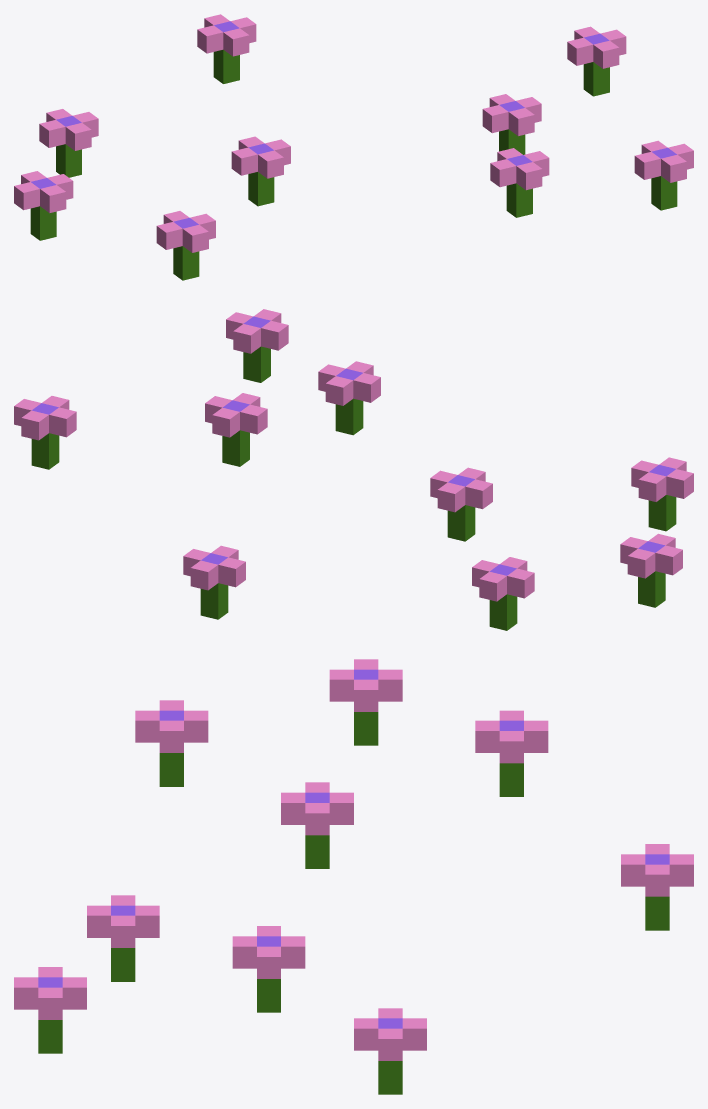
The model's file is flowers_3_overtile.obj.
3 renders of one model, top to bottom at view 1: azimuth 30°, elevation 25°; view 2: azimuth 150°, elevation 25°; view 3: azimuth 270°, elevation 25°, orthographic. The views are drawn at different scales.
Bounding box in the file's own units: 3.7 × 0.3 × 2.8.
1 material, 1 textured.
